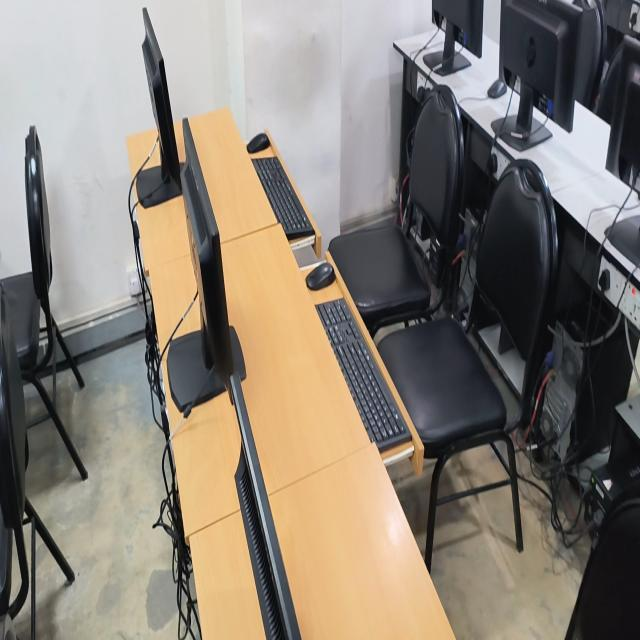Chair: (377, 159, 558, 571), (329, 86, 465, 341), (0, 126, 87, 479), (0, 281, 41, 639), (565, 482, 640, 639), (595, 36, 640, 125), (571, 0, 606, 108)
Cpu: (541, 324, 583, 440), (455, 211, 480, 328)
Keyboard: (316, 300, 411, 452), (252, 156, 315, 241)
Monitor: (231, 372, 301, 639), (181, 119, 234, 387), (500, 0, 582, 132), (142, 9, 181, 201), (429, 0, 483, 76), (619, 63, 640, 184)
Mouse: (306, 262, 335, 290), (487, 74, 507, 98), (247, 133, 270, 153)
